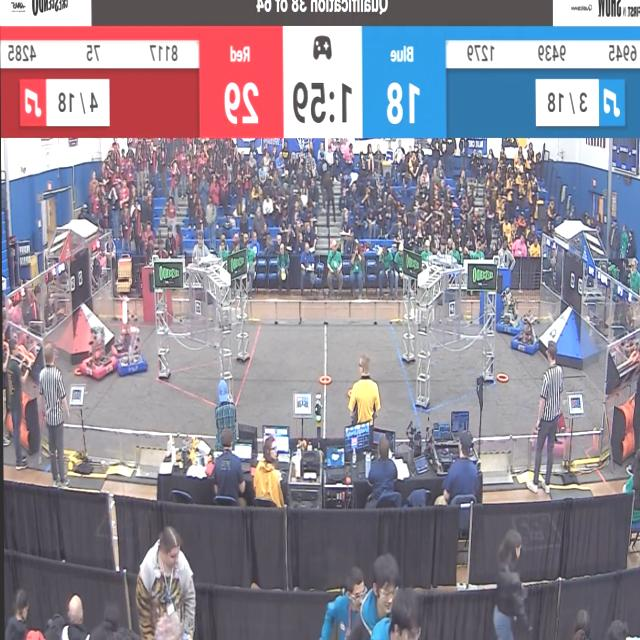Robot: (70, 303, 115, 385), (526, 382, 570, 456), (115, 304, 148, 379), (107, 288, 141, 357), (511, 299, 541, 360), (496, 286, 522, 335)
